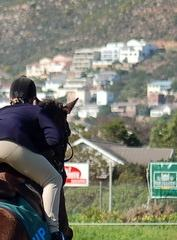horse: (0, 97, 81, 240)
person: (0, 72, 68, 240)
